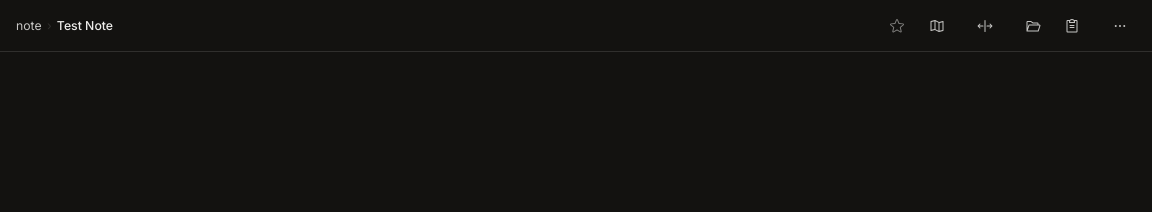
Test: BreadcrumbBar — action buttons always right-aligned › does not duplicate visible lower-priority toolbar actions in the permanent overflow menu
Press the mouse on the button named "More note actions" at (1120, 26), box x1=1104 y1=10 x2=1136 y2=42
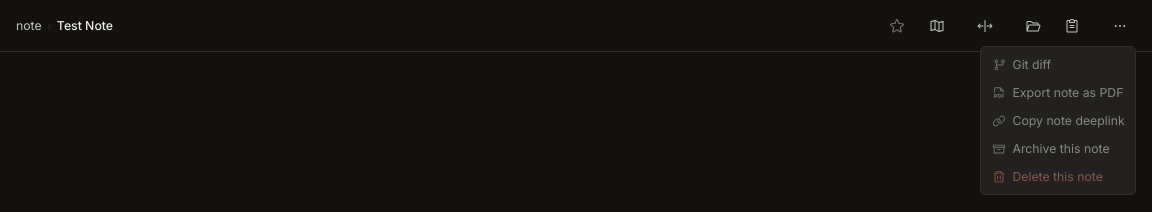
Expected: the menu item "Copy note deeplink" is shown, x1=992 y1=113 x2=1125 y2=128
